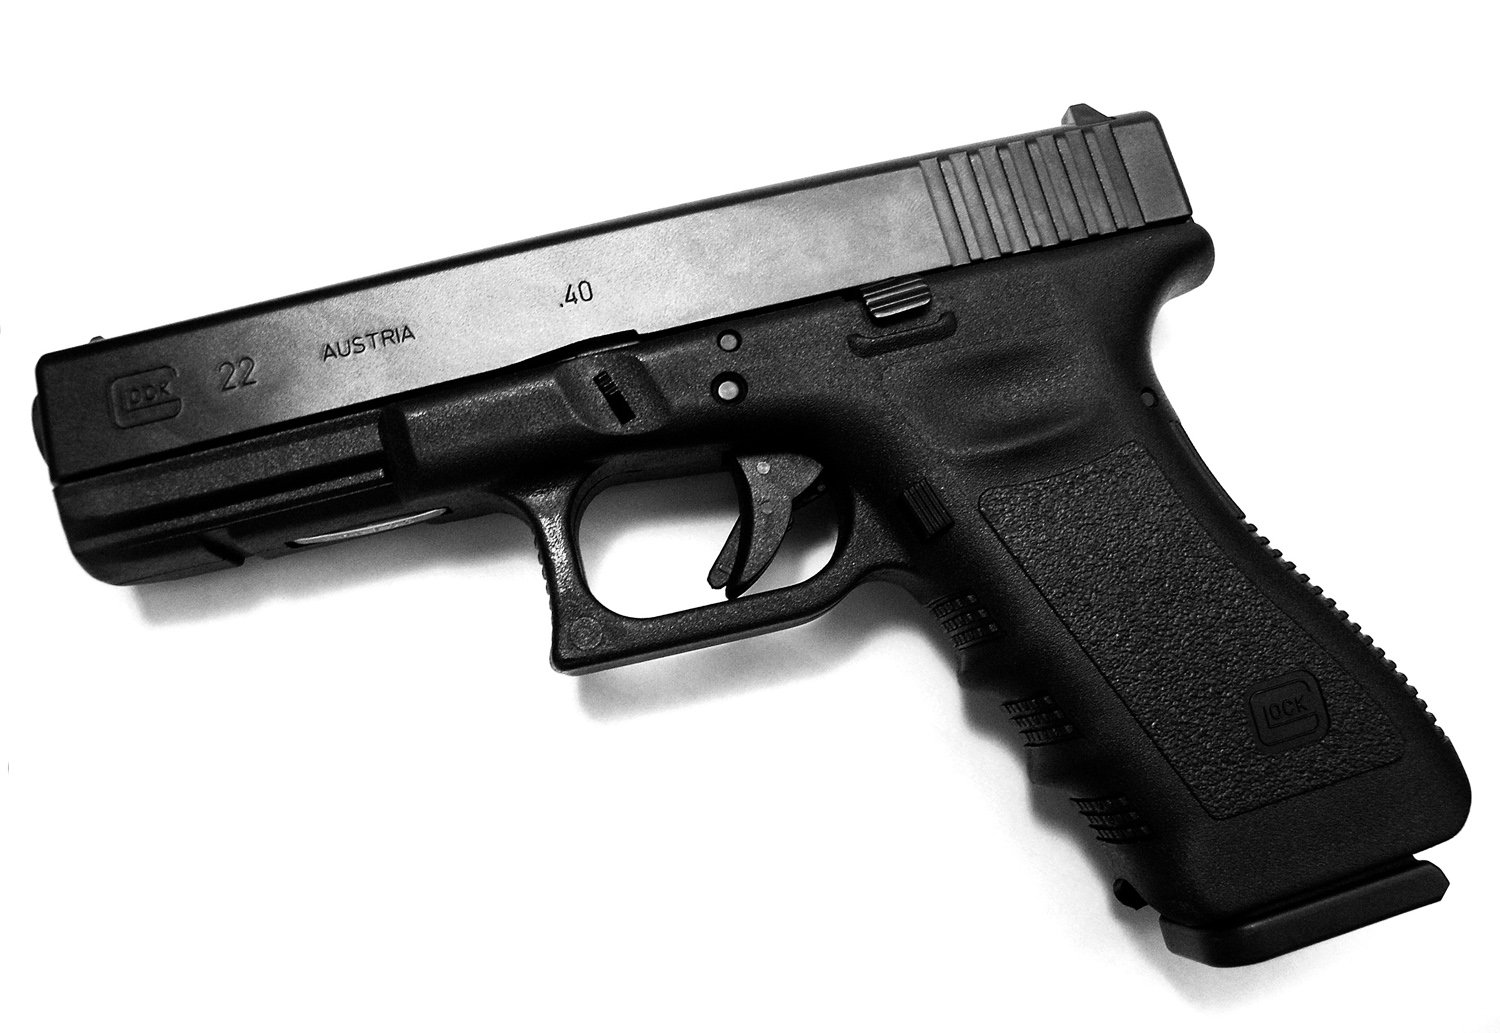gun: (23, 100, 1475, 973)
